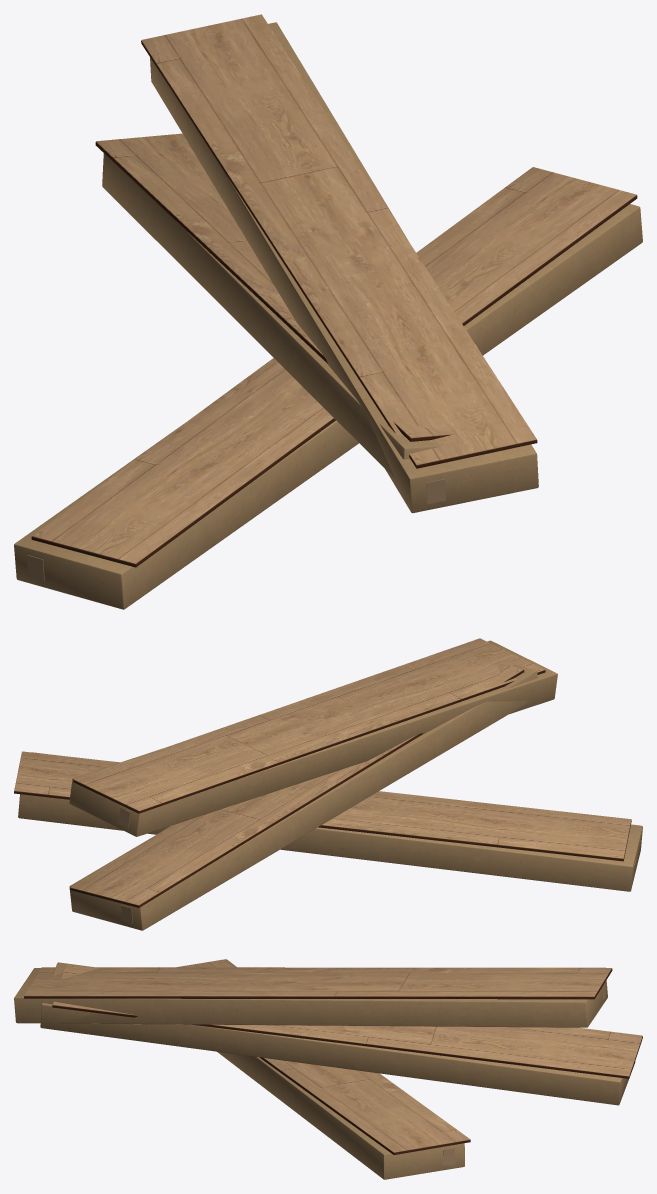
Rendered from PIS-OUT-004_anim.glb.
3 views of the same model, one above another, from view 1: azimuth 30°, elevation 25°; view 2: azimuth 150°, elevation 25°; view 3: azimuth 270°, elevation 25° (orthographic). The views are drawn at different scales.
Parts seen in each view (by area): view 1: PIS-OUT-004_anim2, PIS-OUT-004_anim0, PIS-OUT-004_anim1; view 2: PIS-OUT-004_anim2, PIS-OUT-004_anim0, PIS-OUT-004_anim1; view 3: PIS-OUT-004_anim2, PIS-OUT-004_anim1, PIS-OUT-004_anim0.
Boxes of the visible parts, x1,y1,x2,y2 form: PIS-OUT-004_anim2: (141,14,538,512); PIS-OUT-004_anim0: (14,167,642,609); PIS-OUT-004_anim1: (95,133,455,477); PIS-OUT-004_anim2: (69,638,557,836); PIS-OUT-004_anim0: (14,751,642,891); PIS-OUT-004_anim1: (69,663,537,930); PIS-OUT-004_anim2: (14,967,612,1027); PIS-OUT-004_anim1: (40,962,642,1105); PIS-OUT-004_anim0: (177,959,470,1179).
Bounding box in the file's own units: 1.33 × 0.4024 × 1.46.
6 materials, 4 textured.
